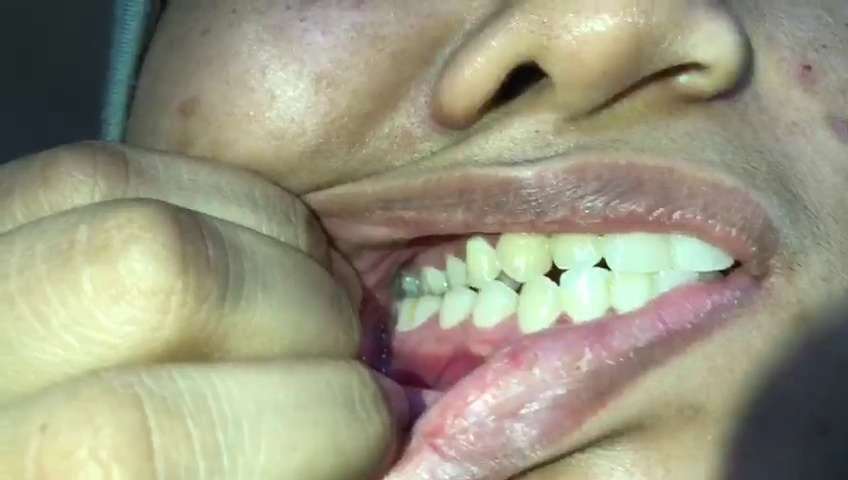1st Molar: (420, 262, 447, 296), (416, 295, 439, 331)
1st Premolar: (473, 277, 516, 330), (463, 238, 499, 291)
2nd Molar: (395, 295, 416, 335), (398, 268, 418, 297)
2nd Premolar: (438, 284, 475, 334), (446, 253, 468, 292)
Canine: (496, 224, 553, 281), (518, 274, 558, 339)
Lateral Incisor: (557, 268, 613, 325)
